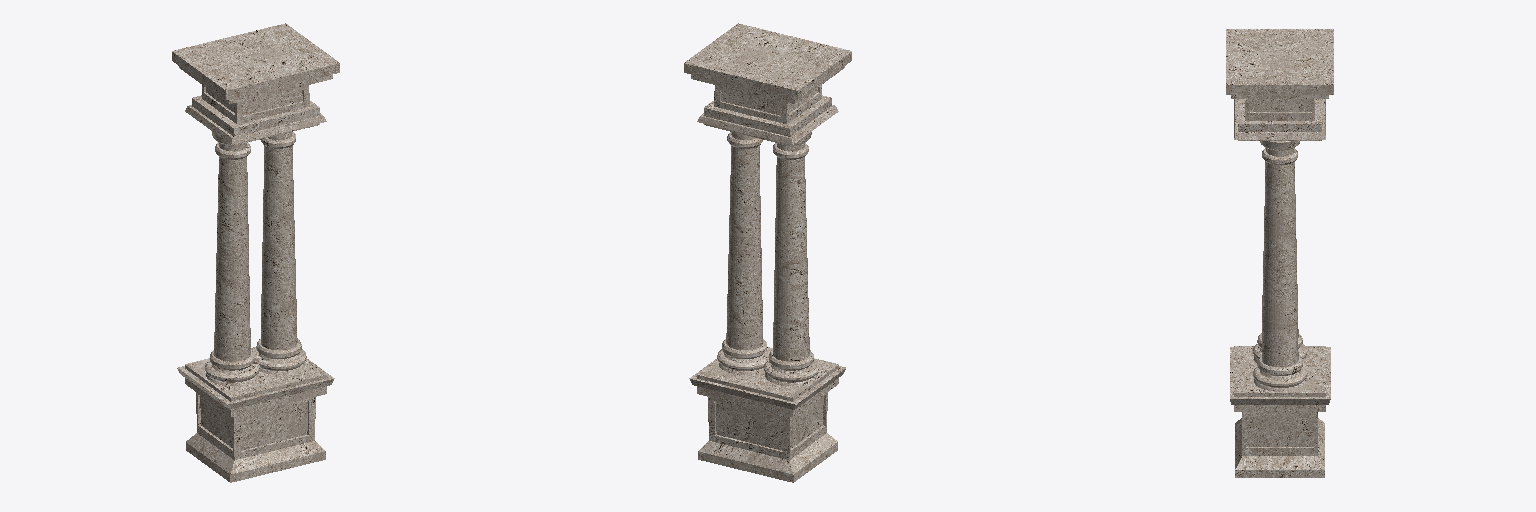
3 renders of one model, left to right at view 1: azimuth 30°, elevation 25°; view 2: azimuth 150°, elevation 25°; view 3: azimuth 270°, elevation 25°, orthographic.
Parts seen in each view (by area): view 1: pillar; view 2: pillar; view 3: pillar.
Part boxes in pixels (left/top/right/bottom): pillar: left=172, top=23, right=339, bottom=482; pillar: left=684, top=23, right=851, bottom=482; pillar: left=1226, top=29, right=1333, bottom=477.
Size of the model in its own units: 0.3613 by 1.2 by 0.2987.
Materials: 1 (1 with a texture image).